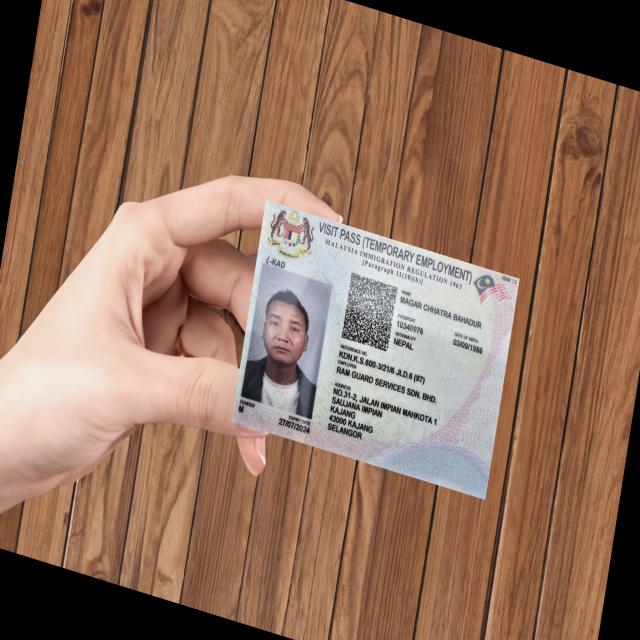ikad-temp: (231, 199, 520, 500)
